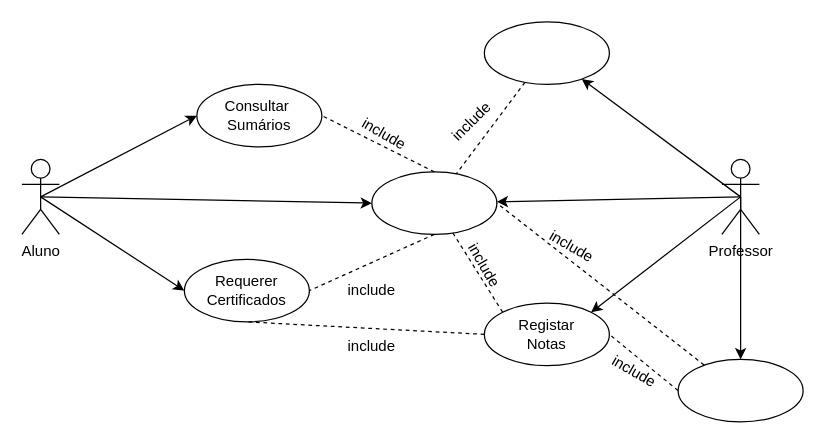
The diagram is 825 pixels wide and 444 high, and some of its shapes have lost their labels. Here are the shapes that lost their labels. From the top down, the box of each, then its label:
(483, 21, 609, 84): Registar Sumários
(371, 171, 497, 234): Autenticar
(677, 358, 803, 422): Imprimir Pautas
